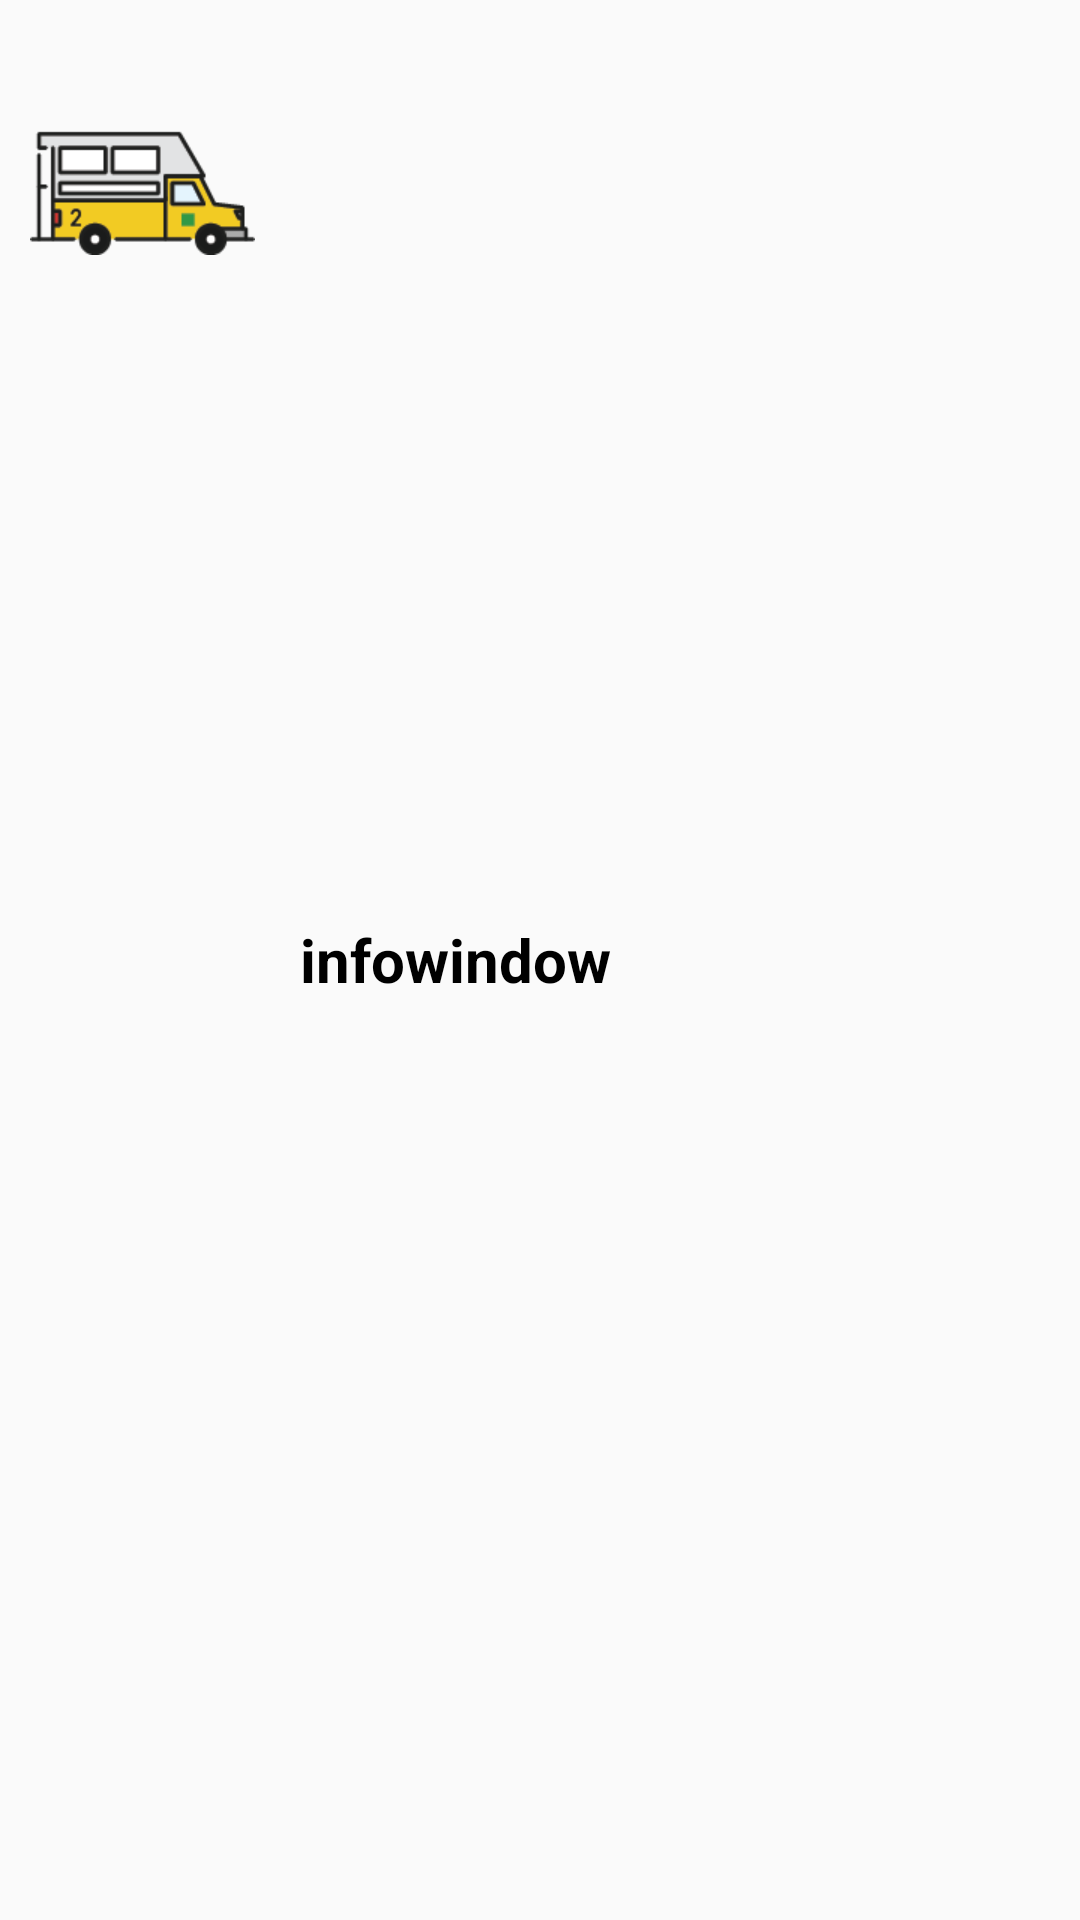

Icons on this 1080px x 1920px Android screen, each with the point to tap as (x=x, y=y):
car: (x=142, y=193)
